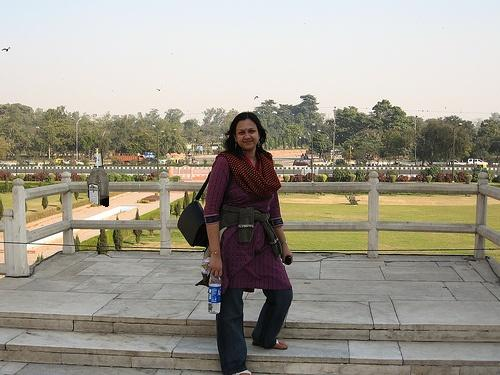tampered: (88, 149, 109, 207)
